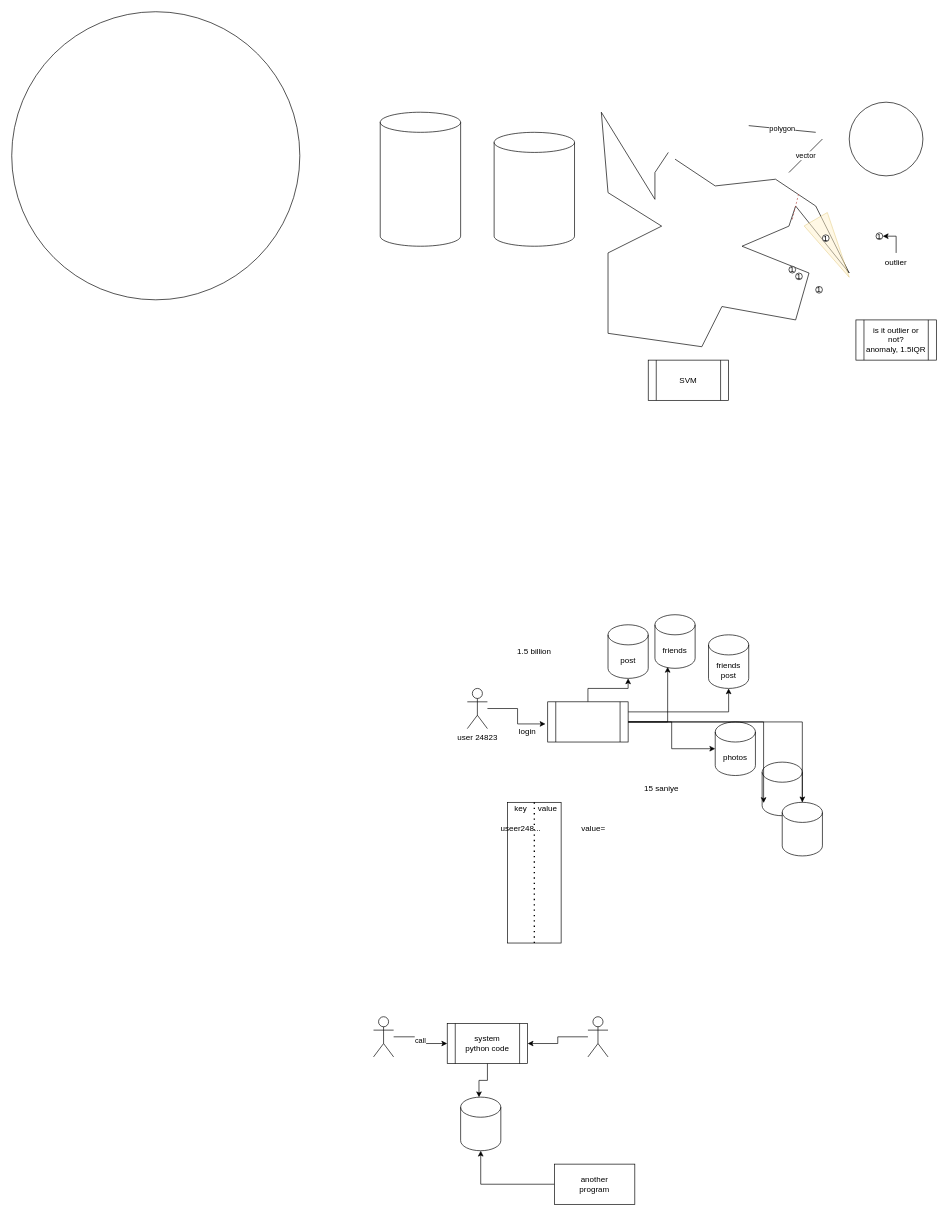
This 948x1216 diagram has some shape labels left out. The centre of each missing label's shape, as x and y in pixels:
"agent" goes at point (597, 1036).
"facebook" goes at point (587, 721).
"most cases dataset ==> smaller accuracy ==> higher" goes at point (155, 155).
"redis" goes at point (480, 1123).
"user" goes at point (383, 1036).
